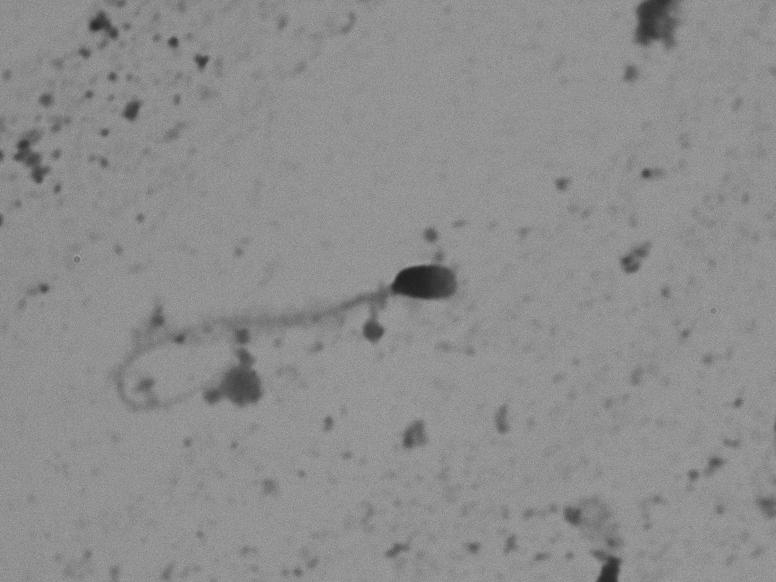Abnormal: (100, 236, 499, 423)
